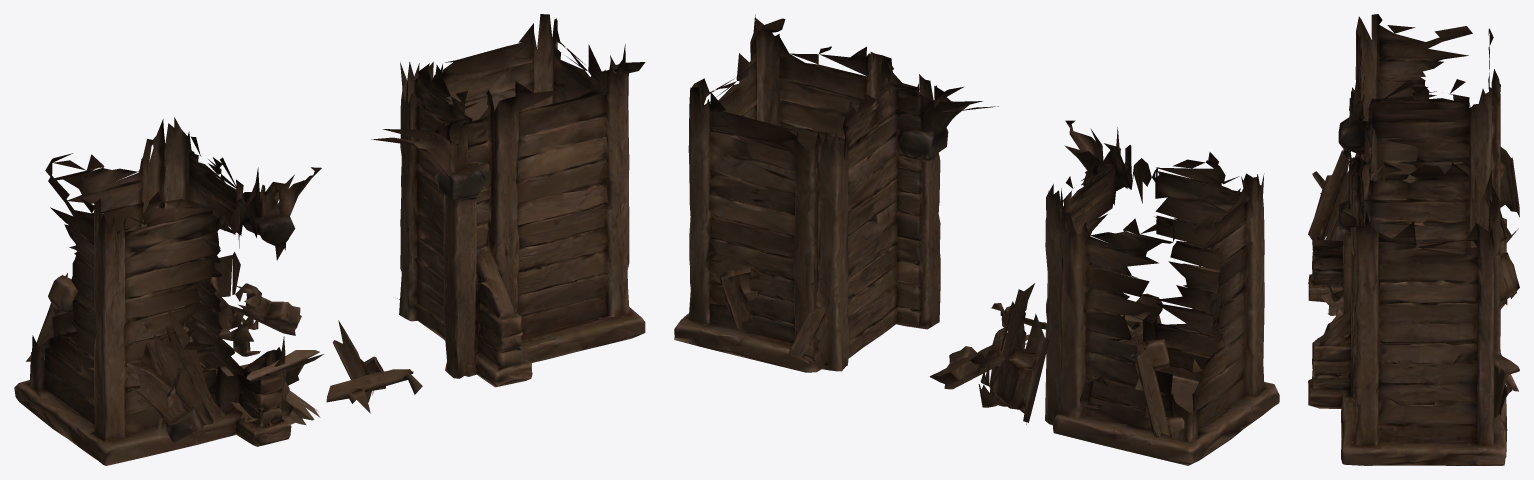
File: gate_small_destroyed.glb
3 renders of one model, left to right at view 1: azimuth 30°, elevation 25°; view 2: azimuth 150°, elevation 25°; view 3: azimuth 270°, elevation 25°, orthographic. The views are drawn at different scales.
Size of the model in its own units: 1.85 by 0.9224 by 0.6975.
1 material, 1 textured.
